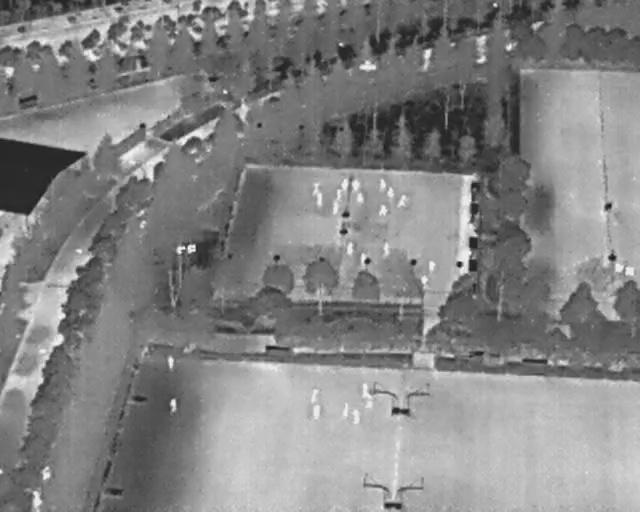Person: (394, 191, 412, 212), (306, 387, 321, 406), (339, 401, 352, 420), (360, 382, 372, 400), (351, 409, 362, 426), (166, 355, 175, 372), (168, 398, 177, 414), (351, 178, 361, 192), (377, 178, 387, 192), (312, 181, 320, 198), (356, 191, 365, 206), (360, 252, 369, 267), (378, 203, 388, 216), (313, 404, 321, 420), (315, 191, 322, 209), (346, 241, 355, 255), (382, 242, 391, 256), (332, 200, 339, 217), (335, 188, 344, 201), (428, 260, 436, 274), (385, 187, 395, 198), (421, 274, 429, 287), (342, 177, 349, 191), (365, 398, 373, 410)
